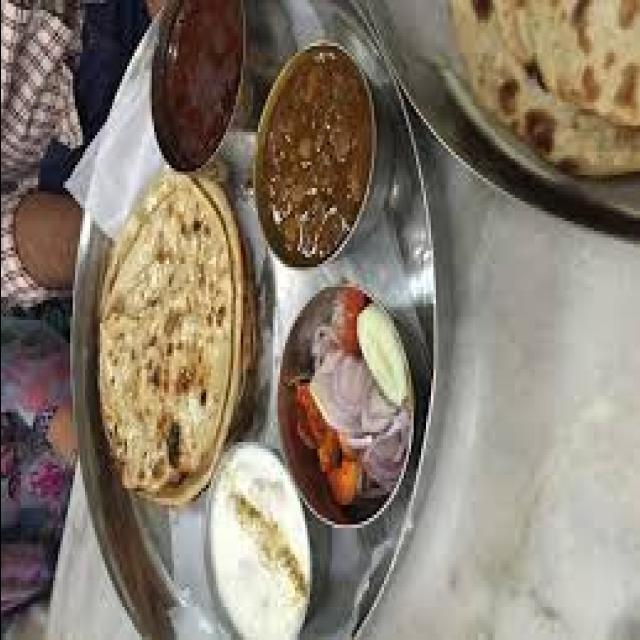curd: (198, 439, 318, 640)
rice: (95, 179, 247, 503)
roti: (87, 185, 249, 492), (454, 2, 640, 172), (4, 5, 80, 185)
sambar-rasam: (8, 183, 83, 301)
veg-fry: (149, 0, 254, 183)
